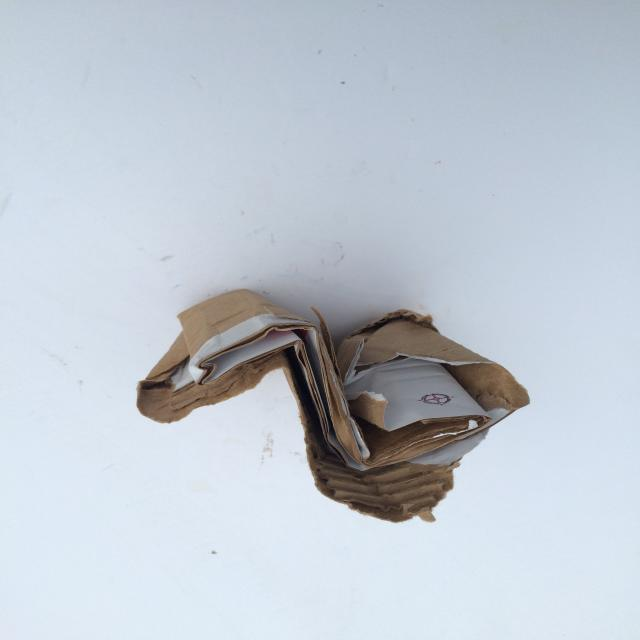Cardboard: (122, 280, 562, 536)
